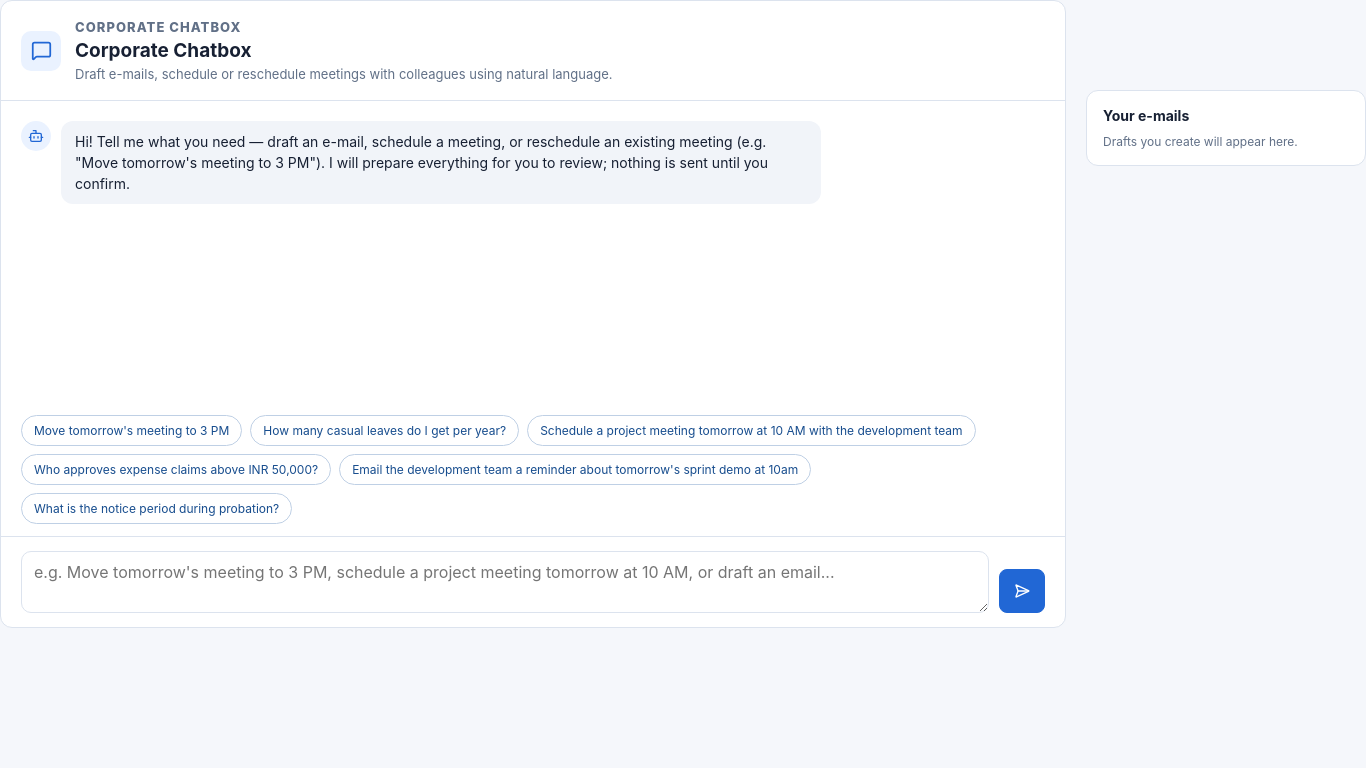
Test case: User Story 5.1 — Natural-Language Meeting Scheduling in Chat › Meeting scheduling flow › successfully schedules a meeting with the development team
The width and height of the screenshot is (1366, 768).
Type "Schedule a project meeting tomorrow at 10 AM with the development team" into the text box named "Message Corporate Chatbox" at (505,582), box 21,551 -> 989,613
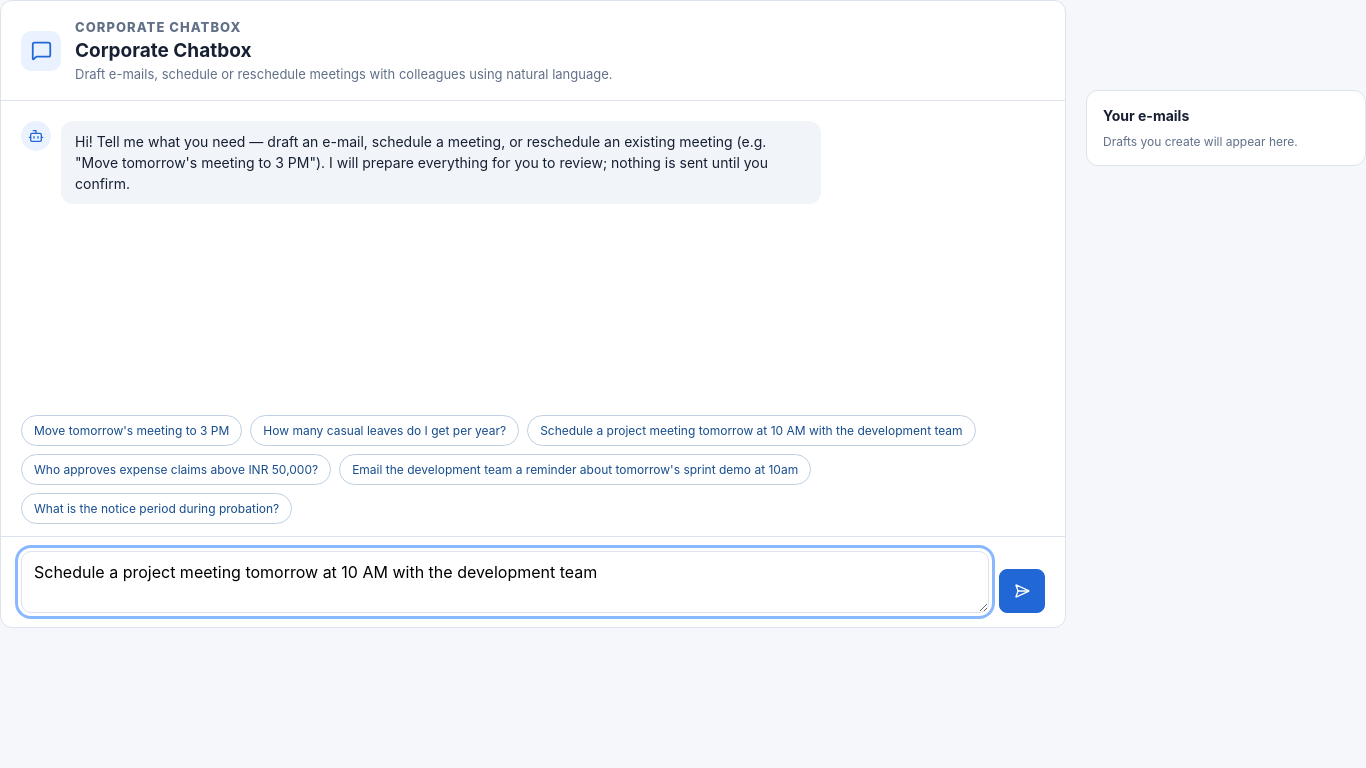
Click the button named "Send message" at (1022,591), box 999,569 -> 1045,613
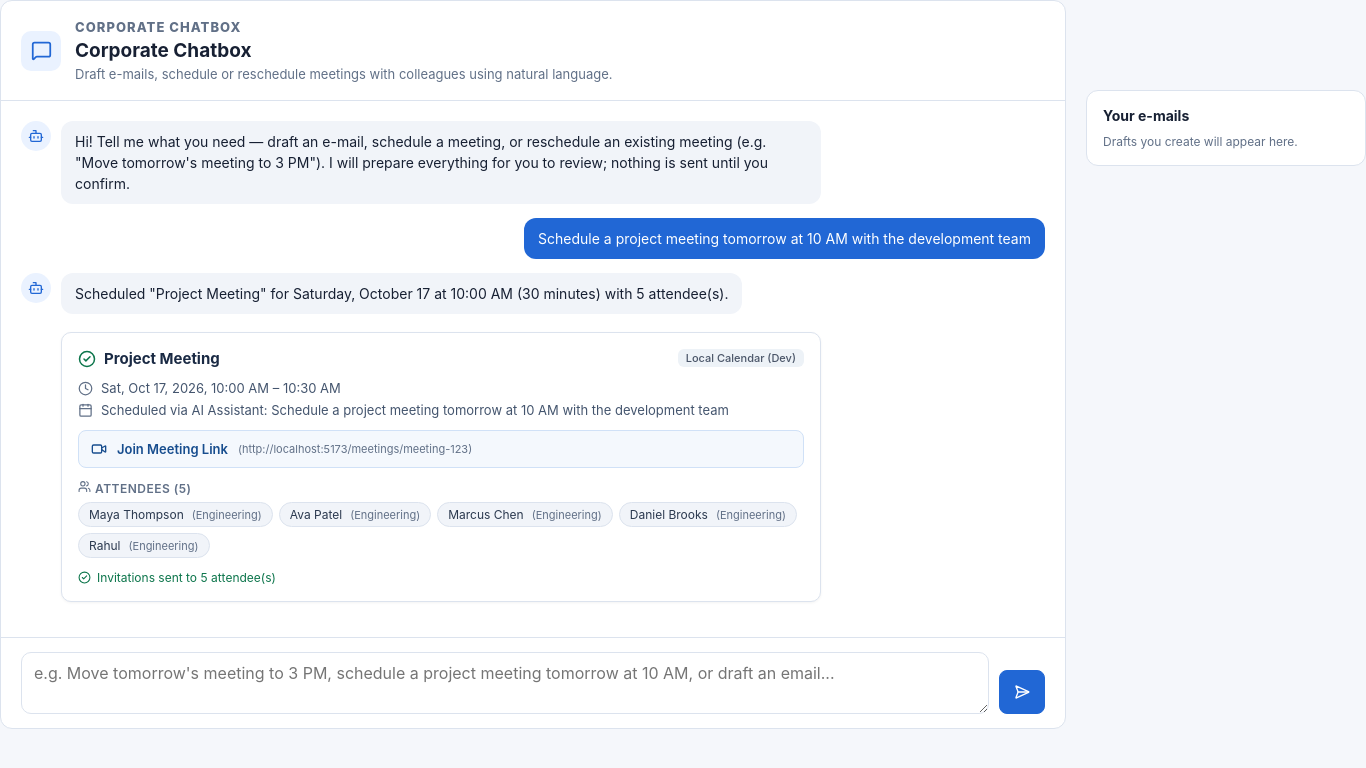
Expected: the heading "Project Meeting" is shown, 104,349 -> 220,368
Expected: the text "Local Calendar (Dev)" is shown, 678,349 -> 804,367
Expected: the link "Join Meeting Link" is shown, 117,441 -> 228,457
